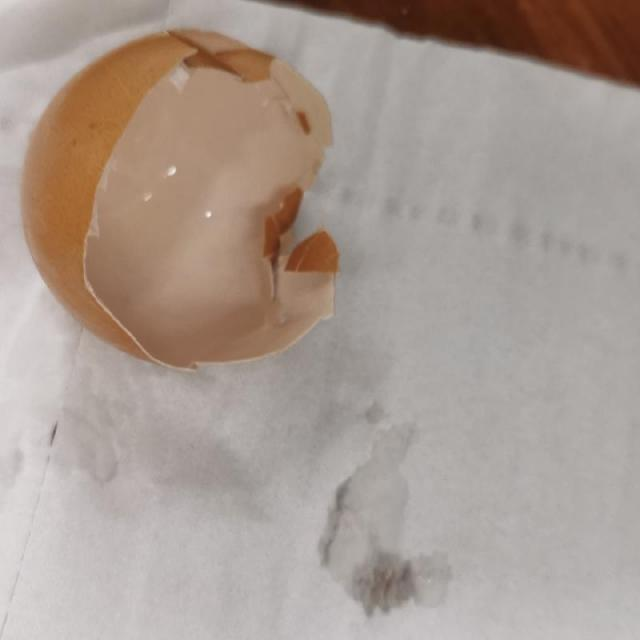egg shell: (13, 33, 336, 370)
